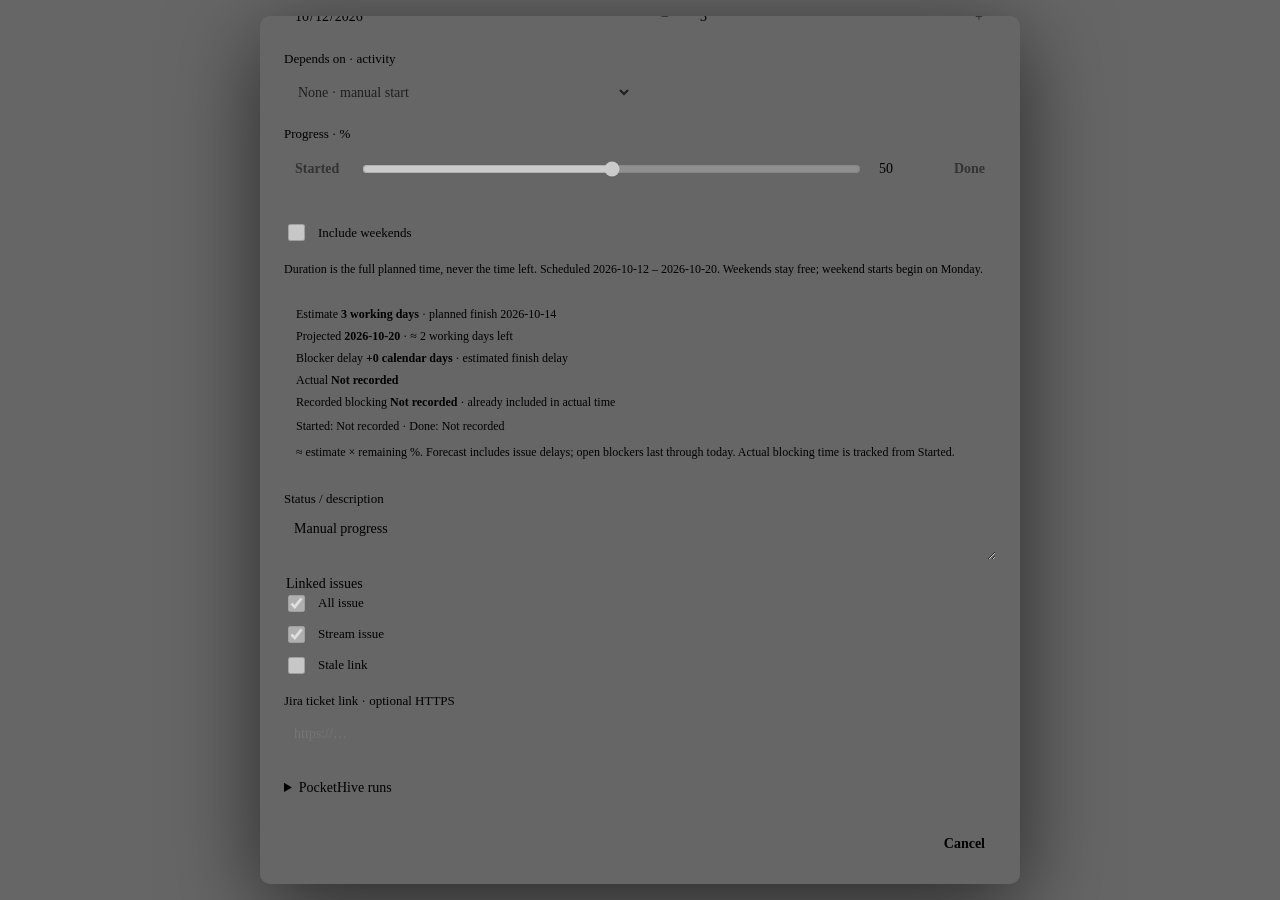
read-only, errors and destructive actions › read-only details can lazily request protected linked runs and show an explicit 401
(page scrolled)
Click the heading "PocketHive runs". click: (345, 787)
box: [299,780,392,795]
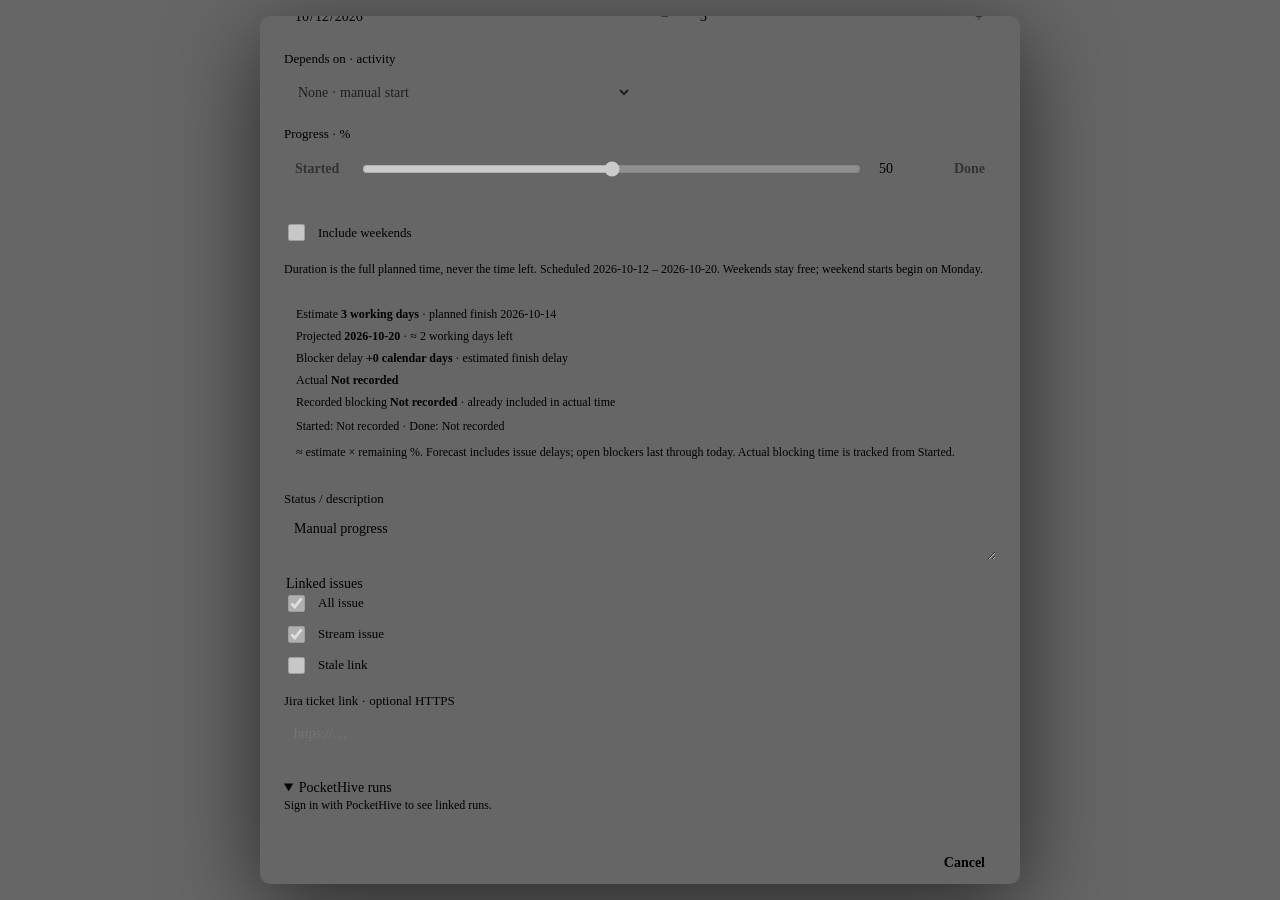
Check: the message reads "Sign in with PocketHive to see linked runs.", box [284,798,492,812]
